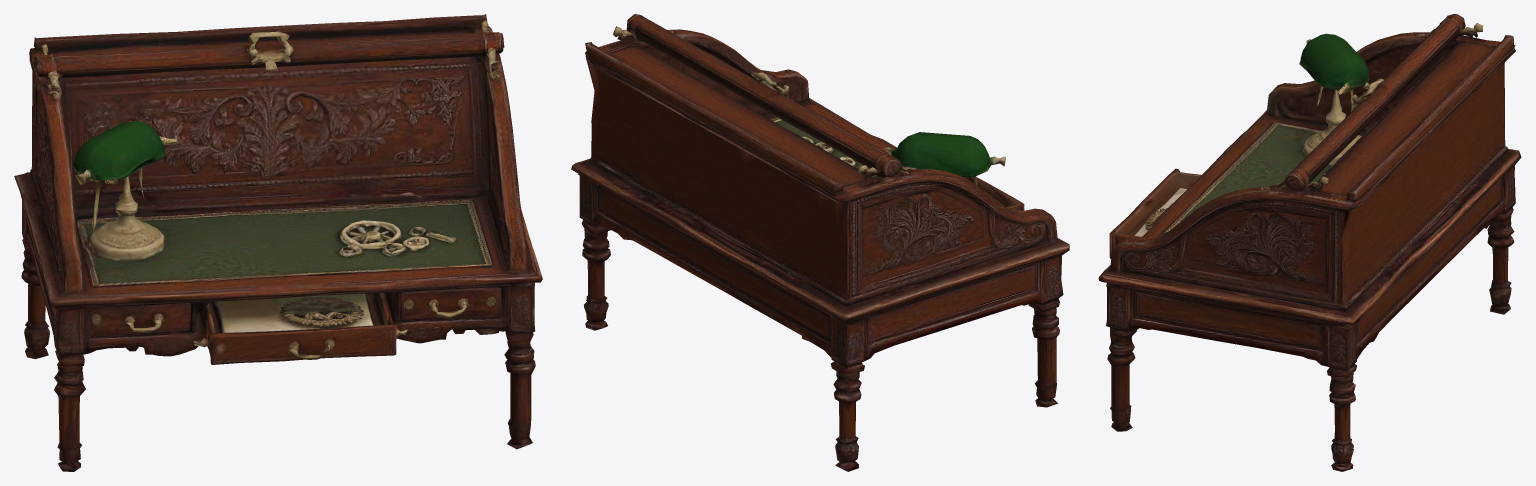
The model's file is prop_s1_rolltop_desk.glb.
3 renders of one model, left to right at view 1: azimuth 30°, elevation 25°; view 2: azimuth 150°, elevation 25°; view 3: azimuth 270°, elevation 25°, orthographic. The views are drawn at different scales.
Parts seen in each view (by area): view 1: tripo_node_e11a88a8-ceb4-4f36-a5a8-da1582b8e95e; view 2: tripo_node_e11a88a8-ceb4-4f36-a5a8-da1582b8e95e; view 3: tripo_node_e11a88a8-ceb4-4f36-a5a8-da1582b8e95e.
Part boxes in pixels (box(x1,y1,x2,y2)): tripo_node_e11a88a8-ceb4-4f36-a5a8-da1582b8e95e: box(14, 14, 542, 471); tripo_node_e11a88a8-ceb4-4f36-a5a8-da1582b8e95e: box(571, 14, 1069, 471); tripo_node_e11a88a8-ceb4-4f36-a5a8-da1582b8e95e: box(1098, 14, 1521, 471).
Bounding box in the file's own units: 1.16 × 0.7435 × 0.9568.
1 material, 1 textured.
